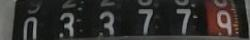digits: (18, 0, 44, 40), (56, 0, 80, 40), (97, 5, 117, 40), (216, 9, 235, 40), (137, 8, 153, 31), (176, 8, 191, 32)
